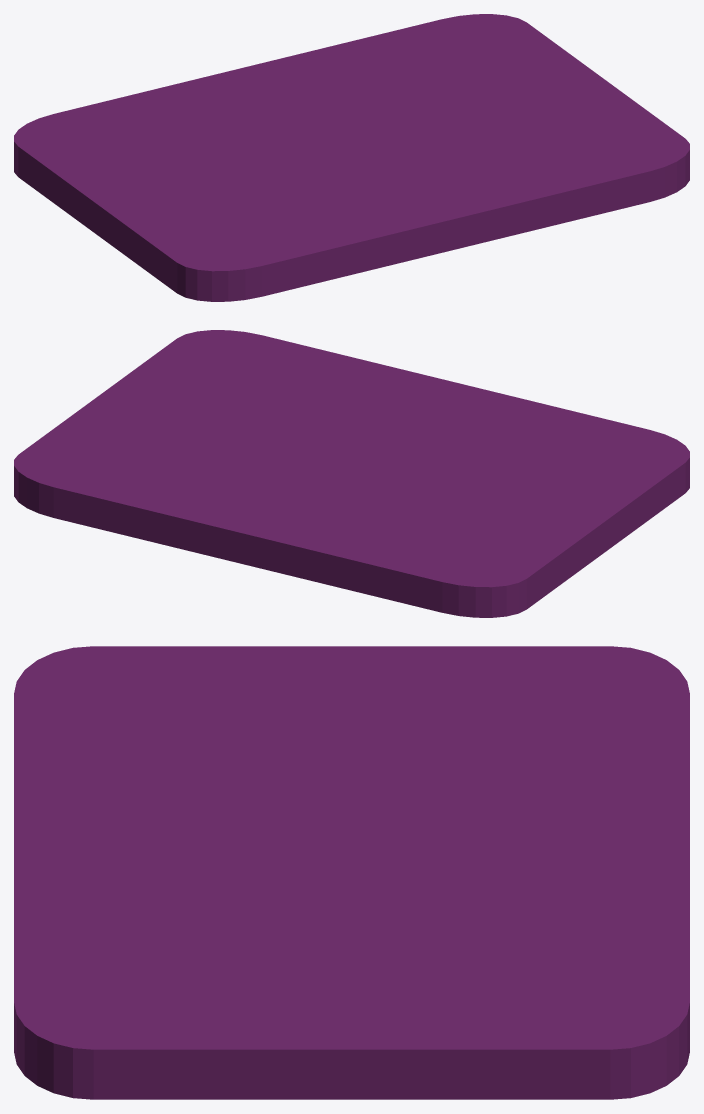
File: Floor Platform.fbx
3 renders of one model, top to bottom at view 1: azimuth 30°, elevation 25°; view 2: azimuth 150°, elevation 25°; view 3: azimuth 270°, elevation 25°, orthographic. The views are drawn at different scales.
Parts seen in each view (by area): view 1: Floor Platform; view 2: Floor Platform; view 3: Floor Platform.
Part boxes in pixels (<box>): Floor Platform: <box>14,14,689,301</box>; Floor Platform: <box>14,330,689,617</box>; Floor Platform: <box>14,646,689,1099</box>.
Bounding box in the file's own units: 683 × 39.52 × 484.
